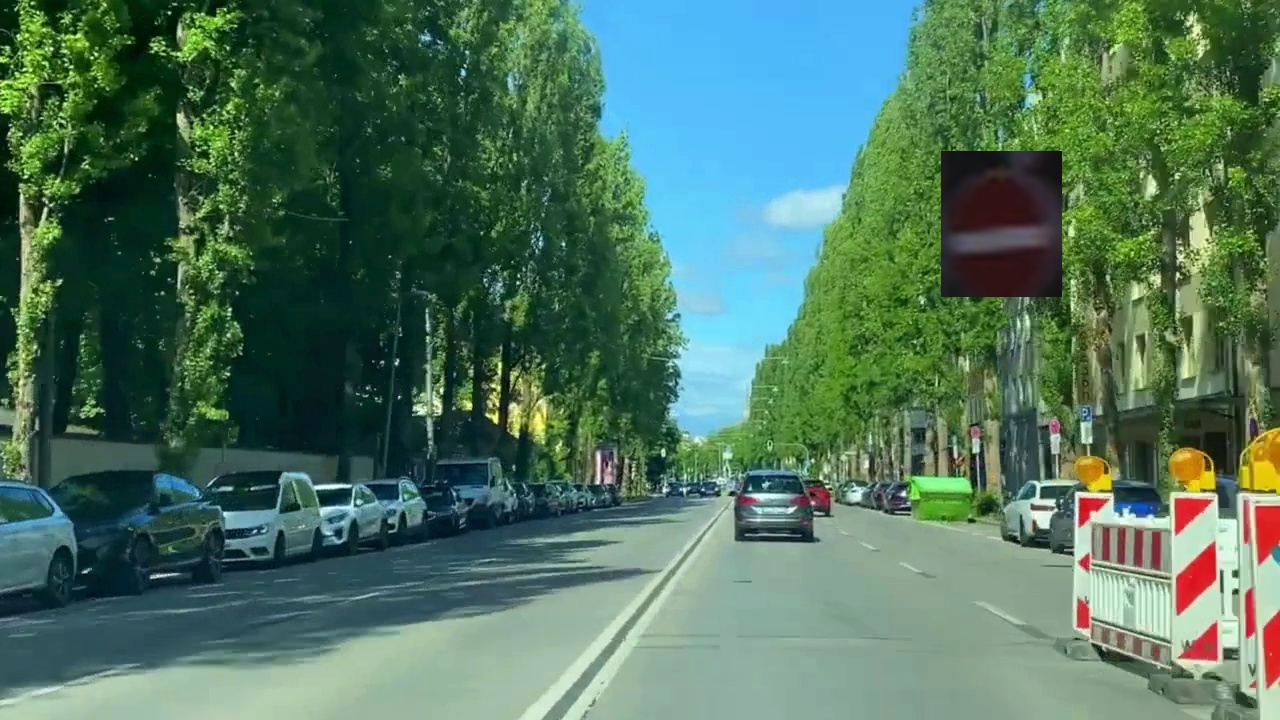No entry: (941, 151, 1062, 297)
